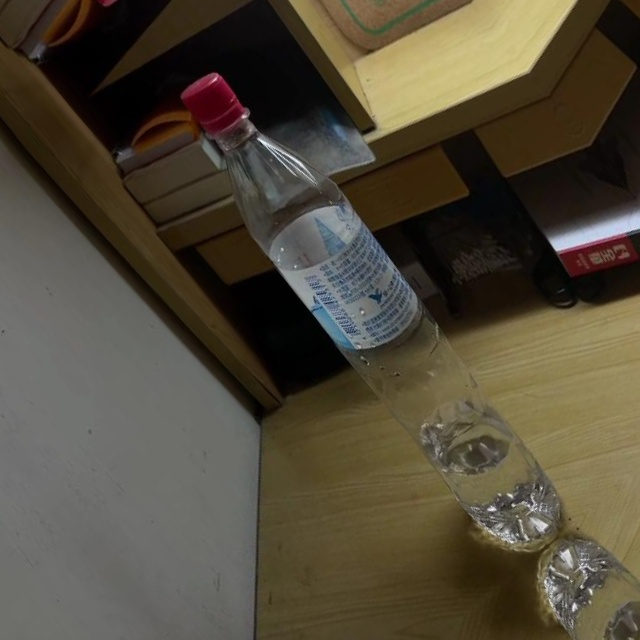Water: (143, 53, 599, 568)
